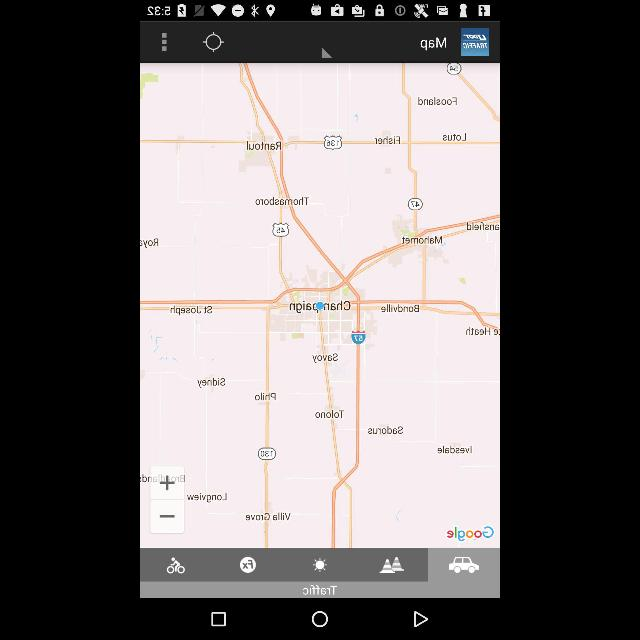icon: (447, 556, 479, 574), (200, 32, 226, 52), (378, 557, 404, 575), (166, 557, 186, 575), (239, 556, 257, 574), (311, 610, 329, 628), (210, 612, 228, 628), (312, 557, 328, 573), (412, 612, 428, 628), (160, 32, 168, 52), (319, 49, 331, 60)
image: (462, 28, 491, 56)
map: (140, 64, 498, 548)
panel: (140, 548, 500, 598), (141, 20, 499, 61), (140, 600, 500, 640)
text: (418, 36, 448, 52), (302, 584, 338, 596)
uppertaskbar: (140, 1, 498, 18)
